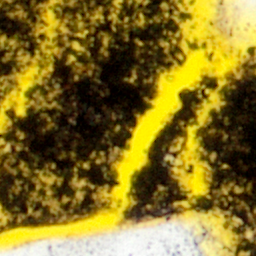cement_matrix: (0, 0, 179, 224), (127, 78, 215, 218), (194, 60, 255, 255), (0, 0, 47, 80), (40, 174, 53, 186), (75, 179, 83, 191), (49, 201, 58, 209), (73, 43, 81, 51), (78, 27, 83, 32), (0, 89, 2, 100), (94, 13, 98, 18)
cracks: (0, 0, 255, 255), (126, 77, 216, 219), (0, 0, 67, 137), (41, 175, 52, 185), (0, 142, 7, 155), (76, 180, 82, 190), (50, 202, 57, 208), (114, 0, 121, 6), (74, 44, 80, 50), (79, 28, 82, 31), (95, 14, 97, 17)
gravel_crushed_stones: (0, 219, 217, 255), (226, 0, 255, 27), (244, 230, 255, 238)
